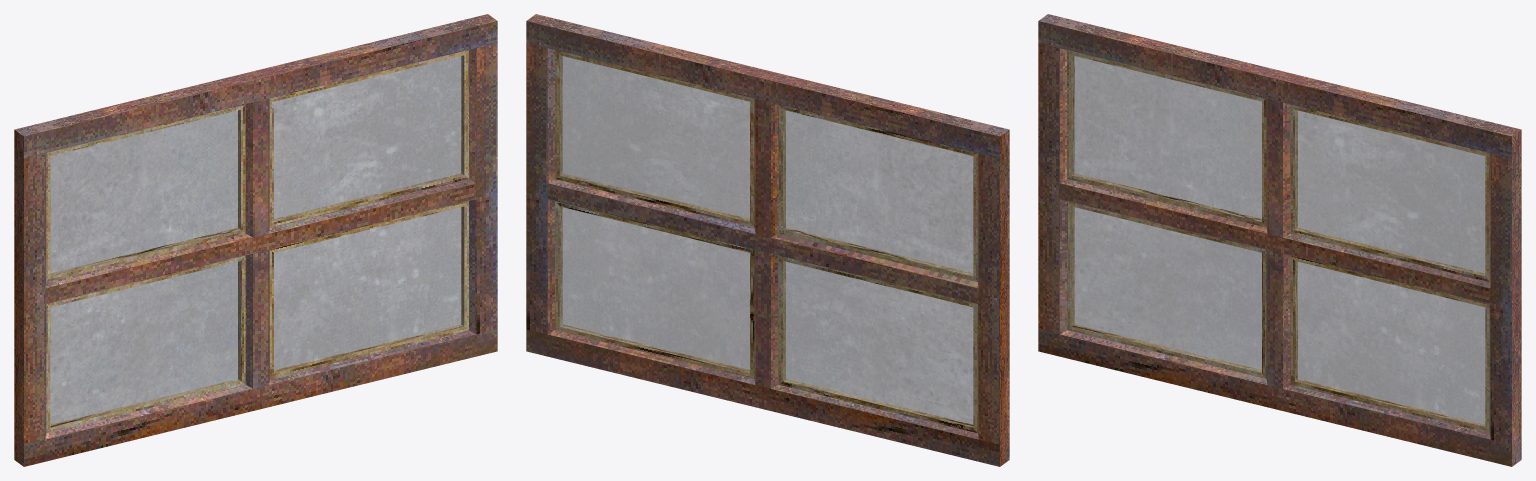
Rendered from window-top.glb.
3 renders of one model, left to right at view 1: azimuth 30°, elevation 25°; view 2: azimuth 150°, elevation 25°; view 3: azimuth 330°, elevation 25°, orthographic.
Visible parts, largest first — view 1: window-top.001; view 2: window-top.001; view 3: window-top.001.
Boxes of the visible parts, bbox=[...] form: window-top.001: bbox=[14, 14, 497, 466]; window-top.001: bbox=[526, 14, 1009, 466]; window-top.001: bbox=[1038, 14, 1521, 466].
Size of the model in its own units: 0.8523 by 0.5682 by 0.0299.
2 materials, 2 textured.
